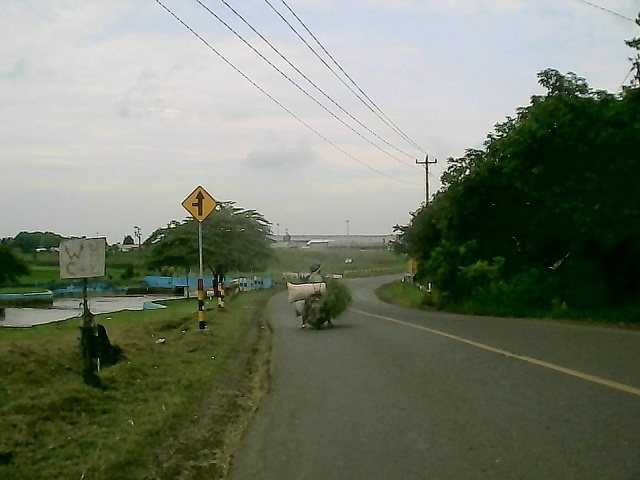Simpang kiri dengan prioritas: (179, 184, 219, 224)
